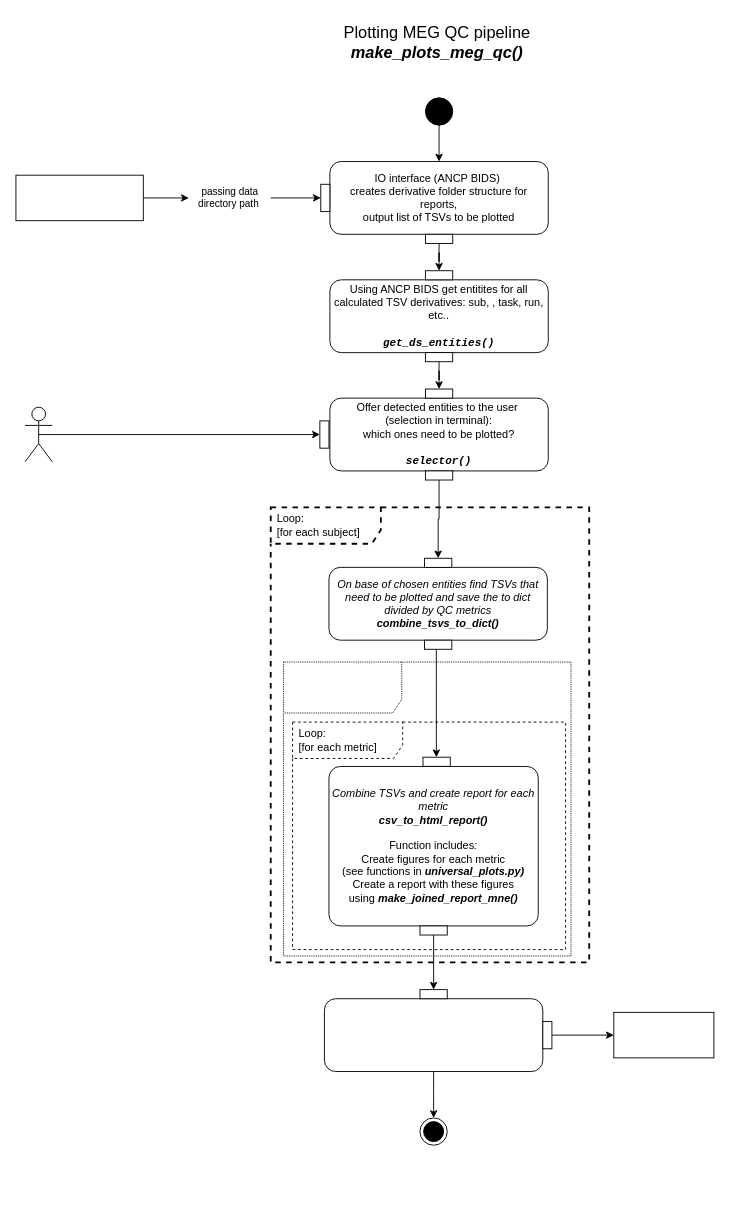
This 754x1224 diagram has some shape labels left out. Here are the shapes that lost their labels. From the top down, the centre of each, then its label:
At (x=79, y=197): "data directory path".
At (x=427, y=808): "Loop: [for entities belonging to 1 raw file]".
At (x=433, y=1035): "IO interface (ANCP BIDS) writes derivatives back into data system".
At (x=663, y=1034): "Derivatives: HTML reports".
